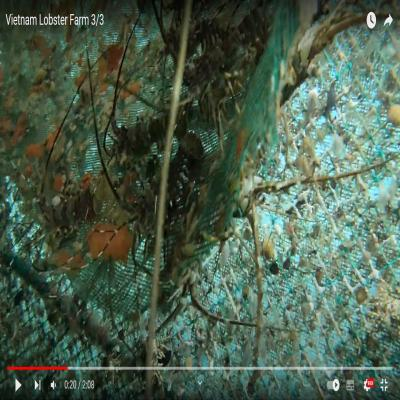lobster: (132, 171, 190, 236), (112, 119, 165, 164), (47, 184, 99, 225)
